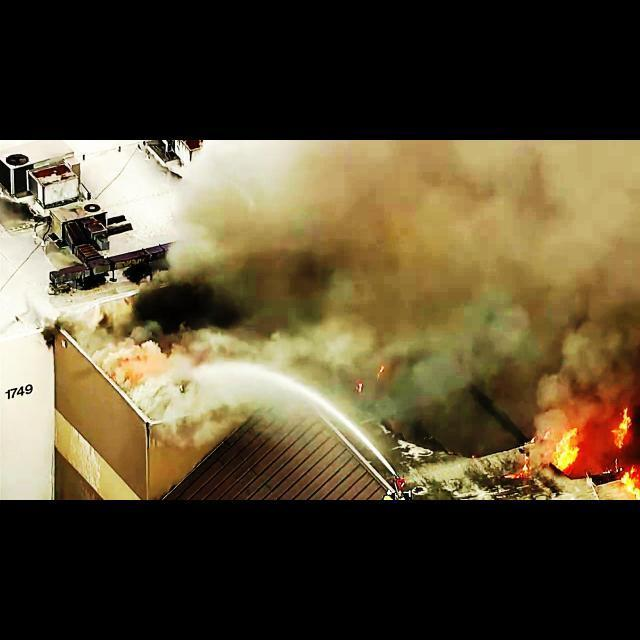Fire: (544, 416, 640, 484)
